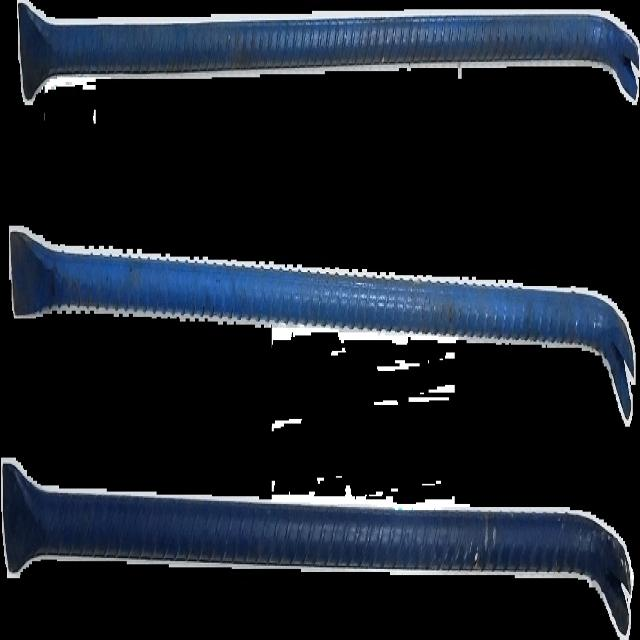Linggis: (1, 450, 634, 640)
